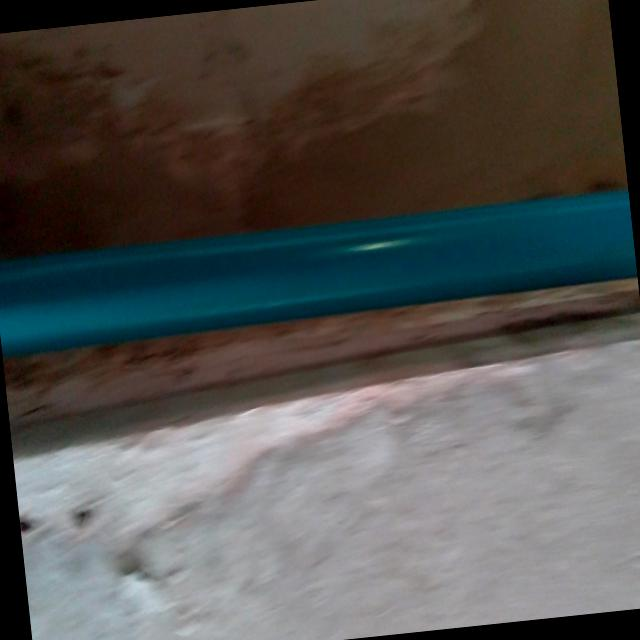gas: (0, 176, 639, 358)
